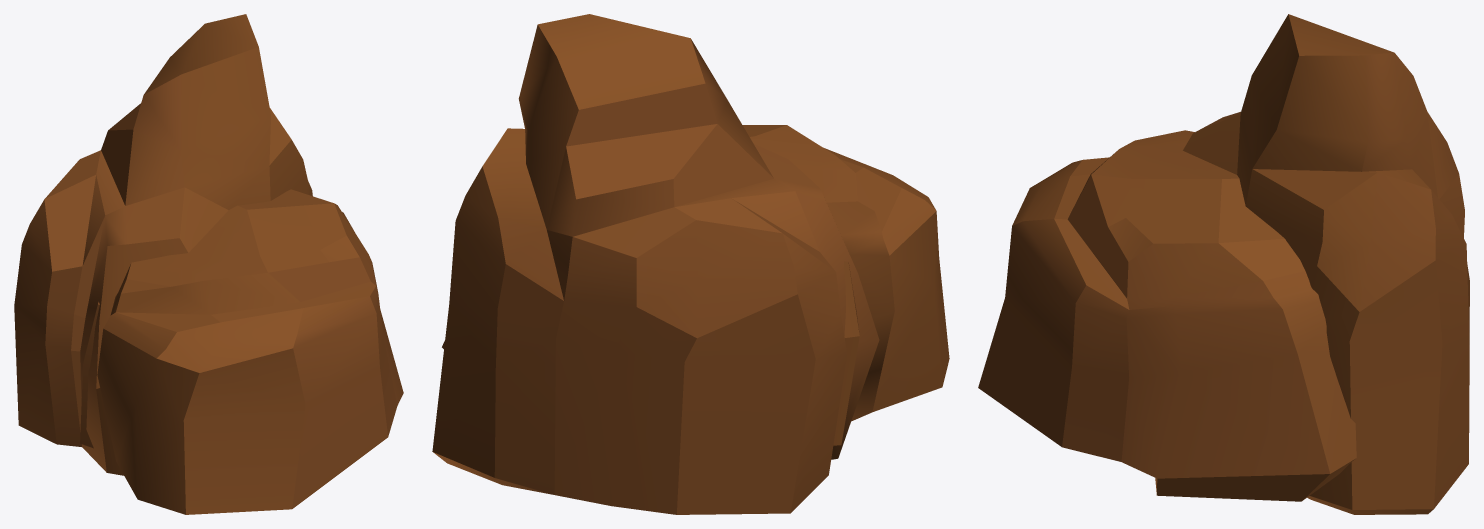
File: rock_lev2.glb
The picture shows the model from 3 angles, left to right: view 1: azimuth 30°, elevation 25°; view 2: azimuth 150°, elevation 25°; view 3: azimuth 270°, elevation 25°; orthographic projection. The views are drawn at different scales.
Parts seen in each view (by area): view 1: Rock_Large_2; view 2: Rock_Large_2; view 3: Rock_Large_2.
Boxes of the visible parts, left/top/right/bottom form: Rock_Large_2: left=14, top=14, right=403, bottom=514; Rock_Large_2: left=432, top=14, right=949, bottom=514; Rock_Large_2: left=978, top=14, right=1469, bottom=514.
Bounding box in the file's own units: 26.37 × 28.26 × 28.98.
1 material, 1 textured.
